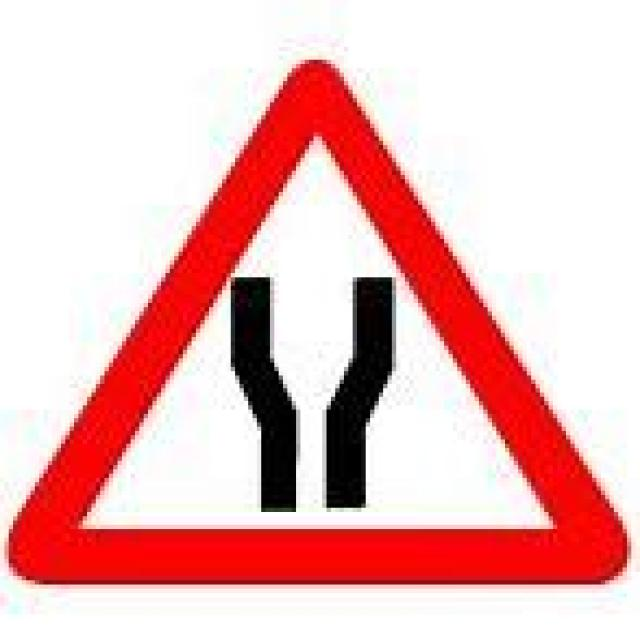do_not_turn_right: (0, 51, 627, 585)
